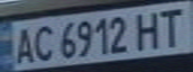1: (90, 15, 112, 56)
2: (106, 12, 133, 54)
6: (54, 19, 78, 60)
9: (72, 17, 96, 57)
A: (6, 24, 39, 65)
C: (30, 21, 57, 63)
H: (130, 7, 169, 51)
T: (151, 4, 190, 47)
